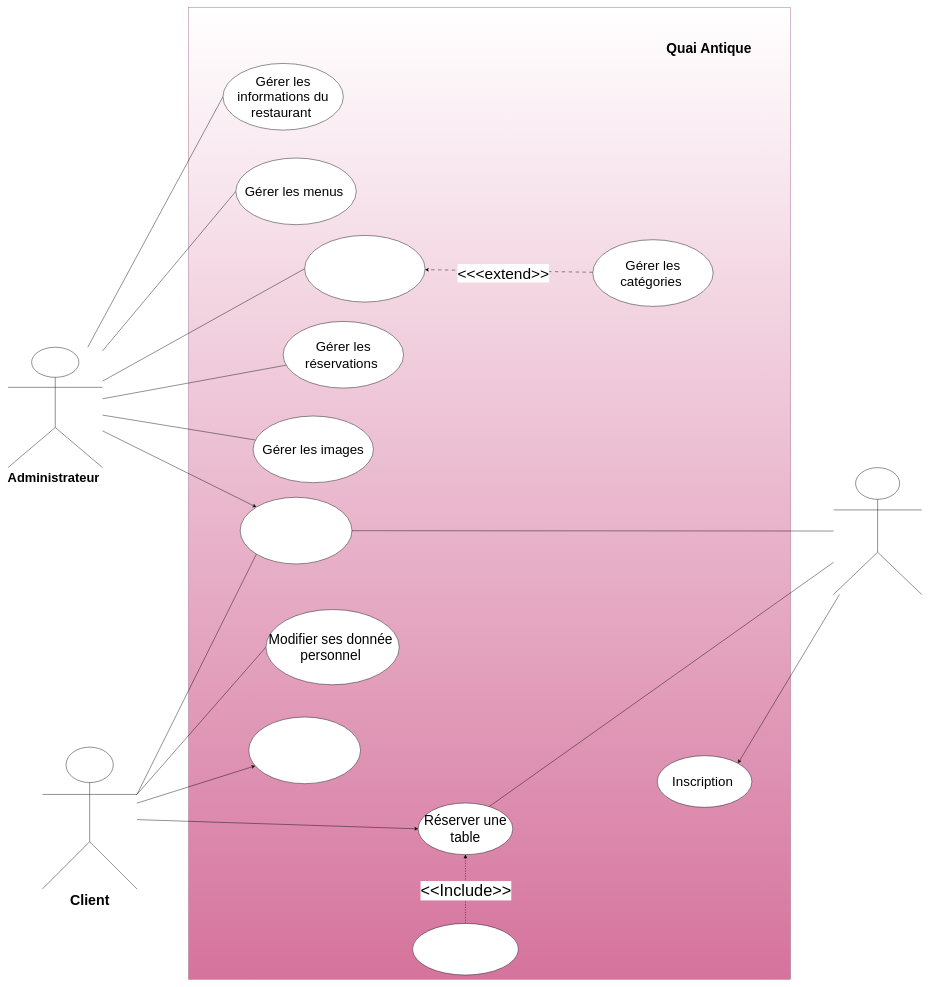
Some shapes in this 929 by 987 pixel diagram are drawn without their labels. The shapes that lost their labels are listed below. From the top down, each one's centre as x and y in pixels, then its label:
At point (364, 268): "Gérer les plats".
At point (296, 530): "Afficher la carte".
At point (877, 530): "Visiteur".
At point (304, 750): "Gestion de ses réservation".
At point (465, 949): "Connexions".
